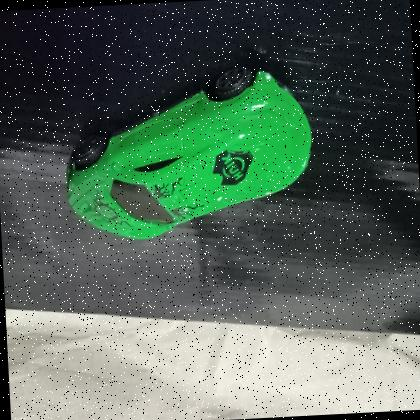Car: (65, 64, 312, 239)
